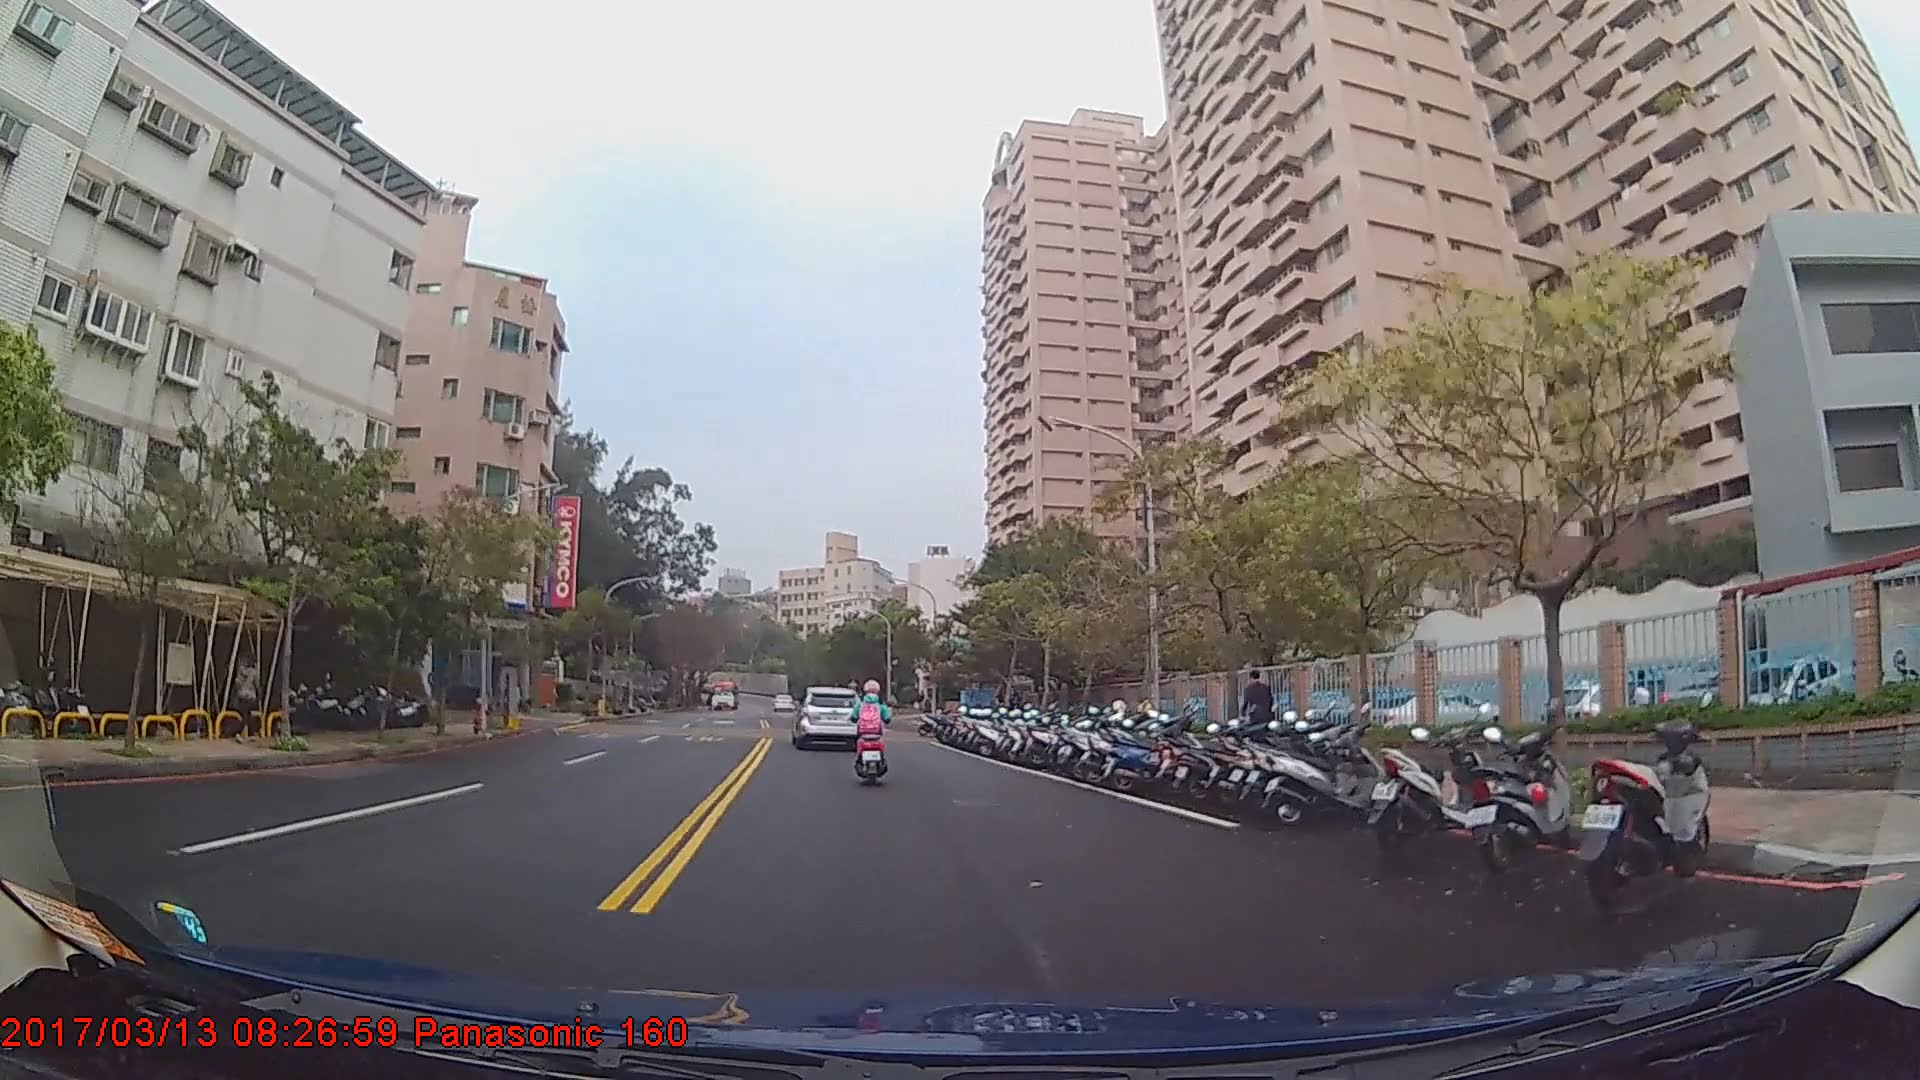pedestrian: (1241, 666, 1277, 756), (237, 653, 261, 744)
rider: (852, 680, 892, 773)
vehicle: (792, 683, 861, 751), (705, 678, 739, 710)
